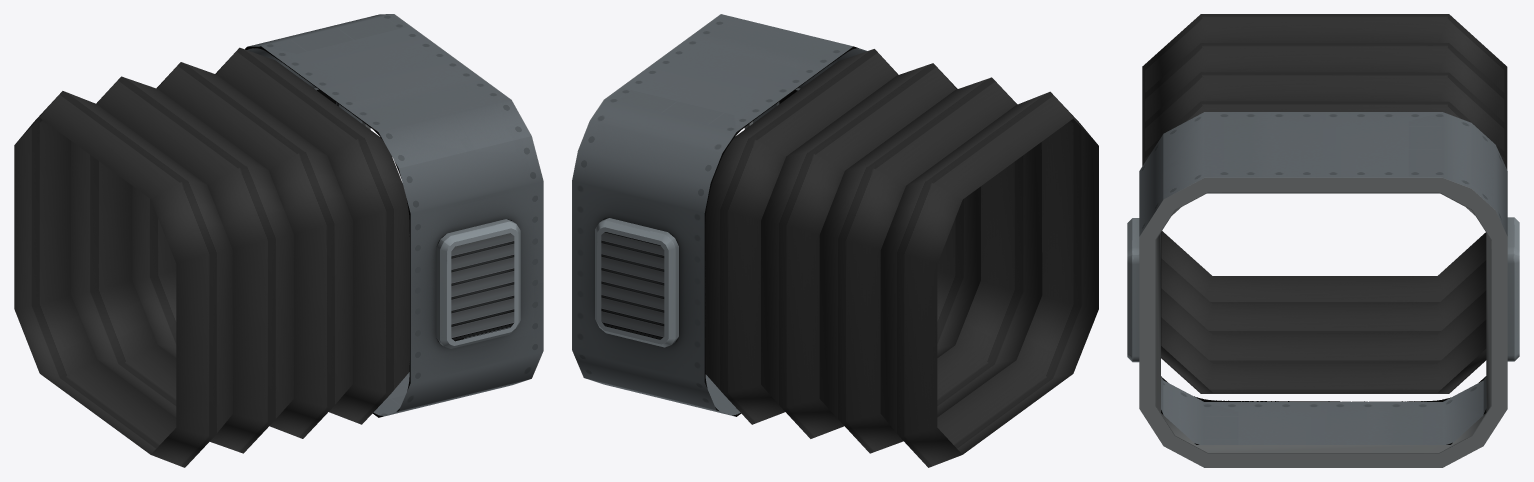
The model's file is env_building_warehouse02_airlock_lod1.fbx.
3 views of the same model, side by side, from view 1: azimuth 30°, elevation 25°; view 2: azimuth 150°, elevation 25°; view 3: azimuth 270°, elevation 25° (orthographic).
Parts seen in each view (by area): view 1: polySurface1405; view 2: polySurface1405; view 3: polySurface1405.
Part boxes in pixels (left/top/right/bottom): polySurface1405: left=14, top=14, right=543, bottom=467; polySurface1405: left=572, top=14, right=1098, bottom=467; polySurface1405: left=1127, top=14, right=1519, bottom=467.
Size of the model in its own units: 82.9 by 63.84 by 77.71.
